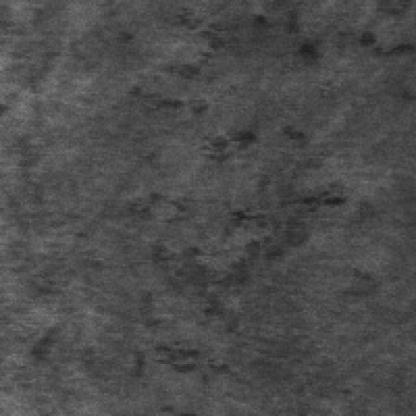rolled-in_scale: (135, 121, 347, 372), (172, 4, 414, 79)
